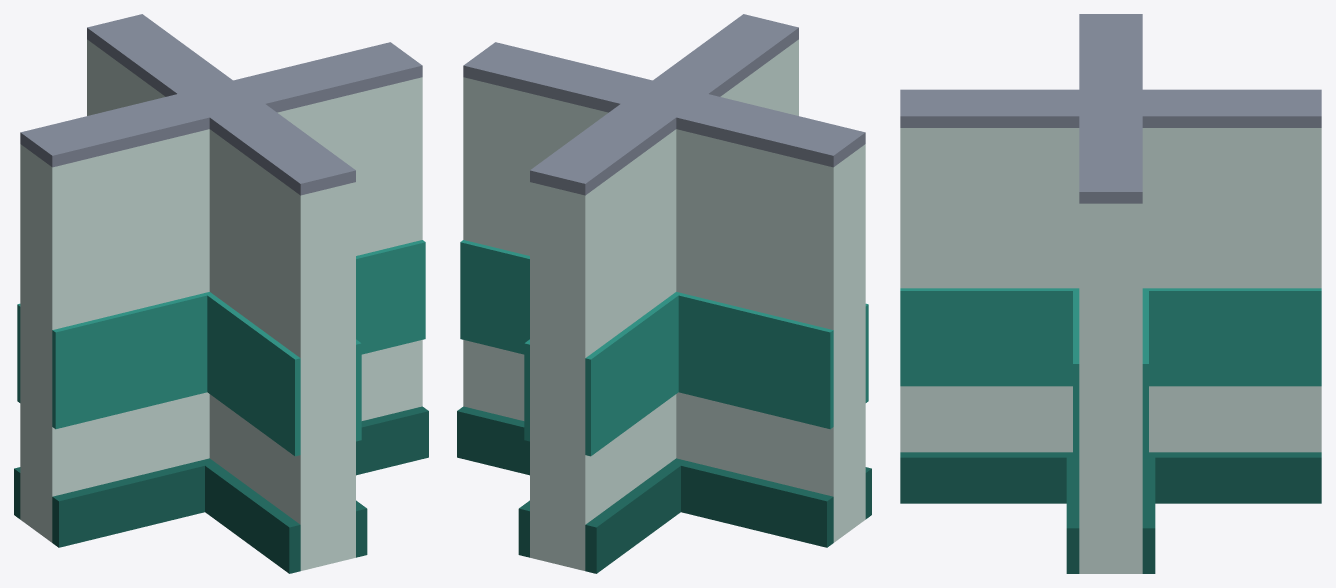
File: partition-full-cross.glb
3 views of the same model, side by side, from view 1: azimuth 30°, elevation 25°; view 2: azimuth 150°, elevation 25°; view 3: azimuth 270°, elevation 25° (orthographic).
Visible parts, largest first — view 1: partition-full-cross; view 2: partition-full-cross; view 3: partition-full-cross.
Part boxes in pixels (x1,y1,x2,y2): partition-full-cross: (14,14,428,573); partition-full-cross: (457,14,871,573); partition-full-cross: (900,14,1321,573).
Size of the model in its own units: 1 by 1 by 1.
Materials: 1 (1 with a texture image).
